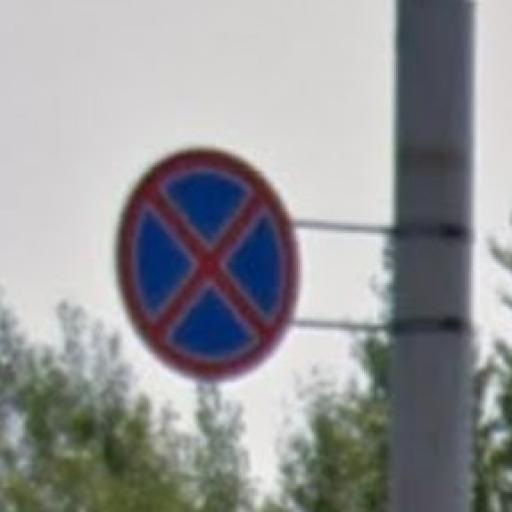traffic_sign: (117, 145, 301, 384)
